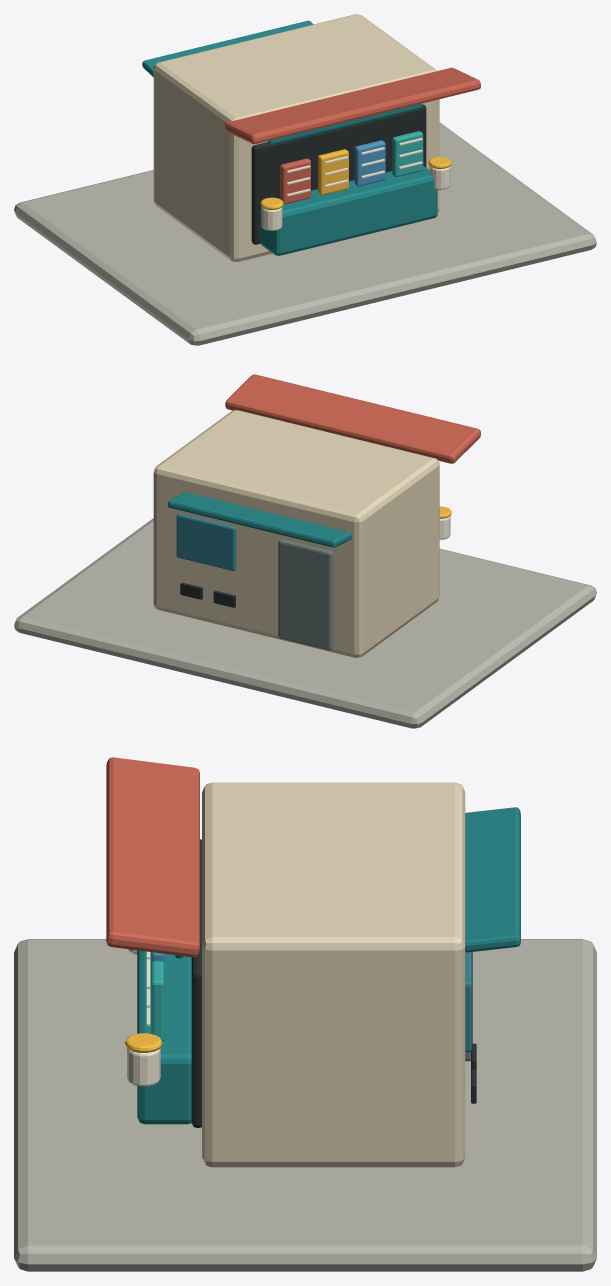
The model's file is mamashop-v2.glb.
3 renders of one model, top to bottom at view 1: azimuth 30°, elevation 25°; view 2: azimuth 150°, elevation 25°; view 3: azimuth 270°, elevation 25°, orthographic. The views are drawn at different scales.
Parts seen in each view (by area): view 1: Ground, MAMA SHOP KIT · Warm plaster, MAMA SHOP KIT · Deep teal, MAMA SHOP KIT · Terracotta, MAMA SHOP KIT · Ink, MAMA SHOP KIT · Chalk, MAMA SHOP KIT · Signal yellow, MAMA SHOP KIT · Weathered teal, MAMA SHOP KIT · Utility blue; view 2: MAMA SHOP KIT · Warm plaster, Ground, MAMA SHOP KIT · Terracotta, MAMA SHOP KIT · Dark metal, MAMA SHOP KIT · Deep teal, MAMA SHOP KIT · Graphic glass, MAMA SHOP KIT · Ink; view 3: Ground, MAMA SHOP KIT · Warm plaster, MAMA SHOP KIT · Terracotta, MAMA SHOP KIT · Deep teal, MAMA SHOP KIT · Ink, MAMA SHOP KIT · Chalk, MAMA SHOP KIT · Weathered teal, MAMA SHOP KIT · Graphic glass.
Boxes of the visible parts, x1,y1,x2,y2 form: Ground: (14, 122, 596, 345); MAMA SHOP KIT · Warm plaster: (153, 14, 439, 261); MAMA SHOP KIT · Deep teal: (142, 20, 437, 255); MAMA SHOP KIT · Terracotta: (225, 67, 480, 204); MAMA SHOP KIT · Ink: (251, 104, 426, 244); MAMA SHOP KIT · Chalk: (261, 138, 450, 230); MAMA SHOP KIT · Signal yellow: (260, 149, 451, 209); MAMA SHOP KIT · Weathered teal: (392, 131, 423, 176); MAMA SHOP KIT · Utility blue: (354, 140, 385, 186); MAMA SHOP KIT · Warm plaster: (153, 410, 439, 657); Ground: (14, 518, 596, 728); MAMA SHOP KIT · Terracotta: (225, 374, 480, 463); MAMA SHOP KIT · Dark metal: (278, 539, 332, 650); MAMA SHOP KIT · Deep teal: (168, 492, 351, 547); MAMA SHOP KIT · Graphic glass: (176, 513, 236, 570); MAMA SHOP KIT · Ink: (180, 582, 235, 607); Ground: (14, 939, 596, 1271); MAMA SHOP KIT · Warm plaster: (202, 782, 465, 1167); MAMA SHOP KIT · Terracotta: (106, 757, 199, 957); MAMA SHOP KIT · Deep teal: (137, 807, 520, 1124); MAMA SHOP KIT · Ink: (191, 839, 476, 1127); MAMA SHOP KIT · Chalk: (127, 949, 160, 1086); MAMA SHOP KIT · Weathered teal: (151, 961, 164, 1041); MAMA SHOP KIT · Graphic glass: (465, 952, 471, 1052).
Size of the model in its own units: 8 by 3.21 by 6.2.
Materials: 1 (1 with a texture image).
